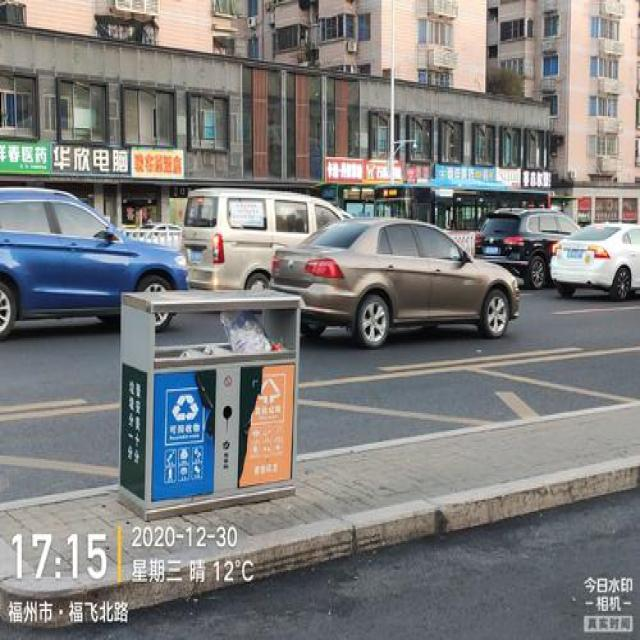overflow: (116, 285, 304, 521)
